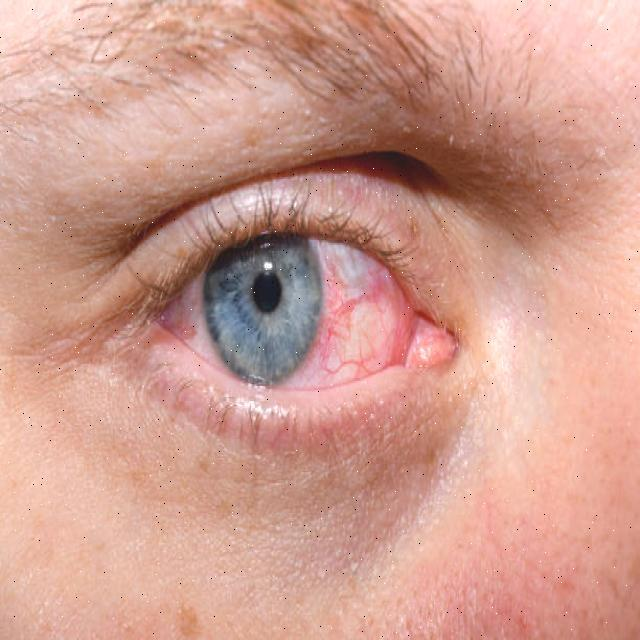Conjunctivitis: (201, 254, 447, 386)
